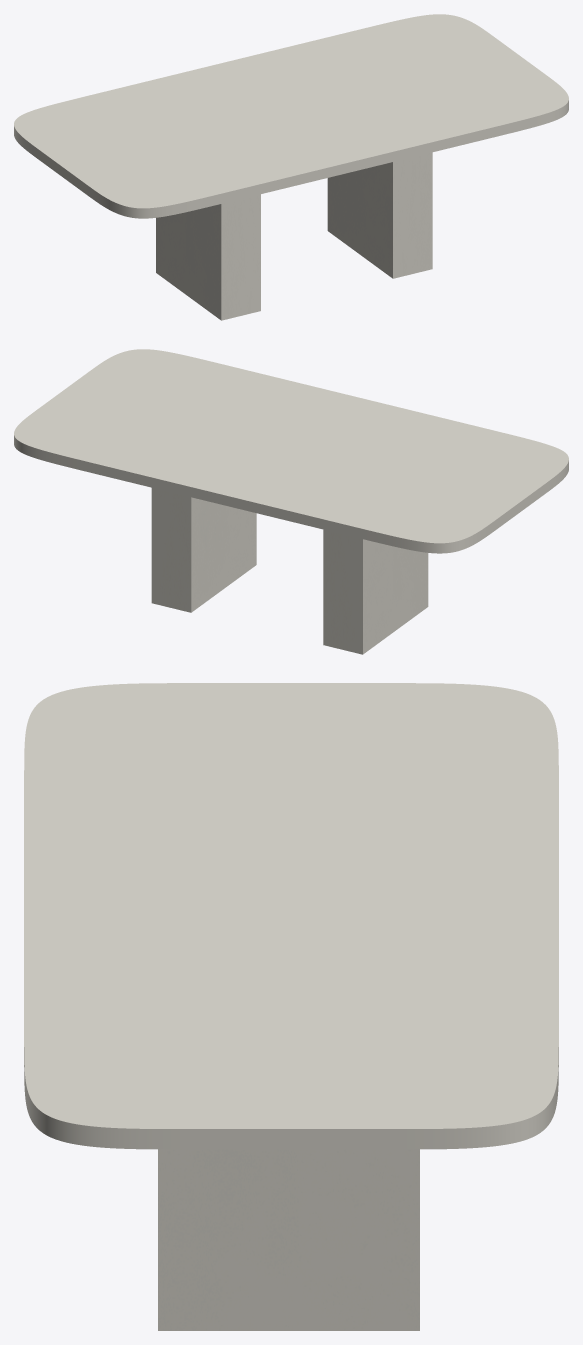
Rendered from pale_softrecta_standard_ridge.glb.
The picture shows the model from 3 angles, top to bottom: view 1: azimuth 30°, elevation 25°; view 2: azimuth 150°, elevation 25°; view 3: azimuth 270°, elevation 25°; orthographic projection. The views are drawn at different scales.
Parts seen in each view (by area): view 1: standard_softrecta, ridge; view 2: standard_softrecta, ridge; view 3: standard_softrecta, ridge.
Boxes of the visible parts, box(x1,y1,x2,y2) form: standard_softrecta: box(14, 14, 568, 218); ridge: box(156, 152, 432, 320); standard_softrecta: box(14, 349, 568, 553); ridge: box(151, 488, 428, 654); standard_softrecta: box(24, 683, 558, 1149); ridge: box(158, 1149, 419, 1330).
Bounding box in the file's own units: 7.5 × 2.5 × 3.8.
Materials: 1 (1 with a texture image).
